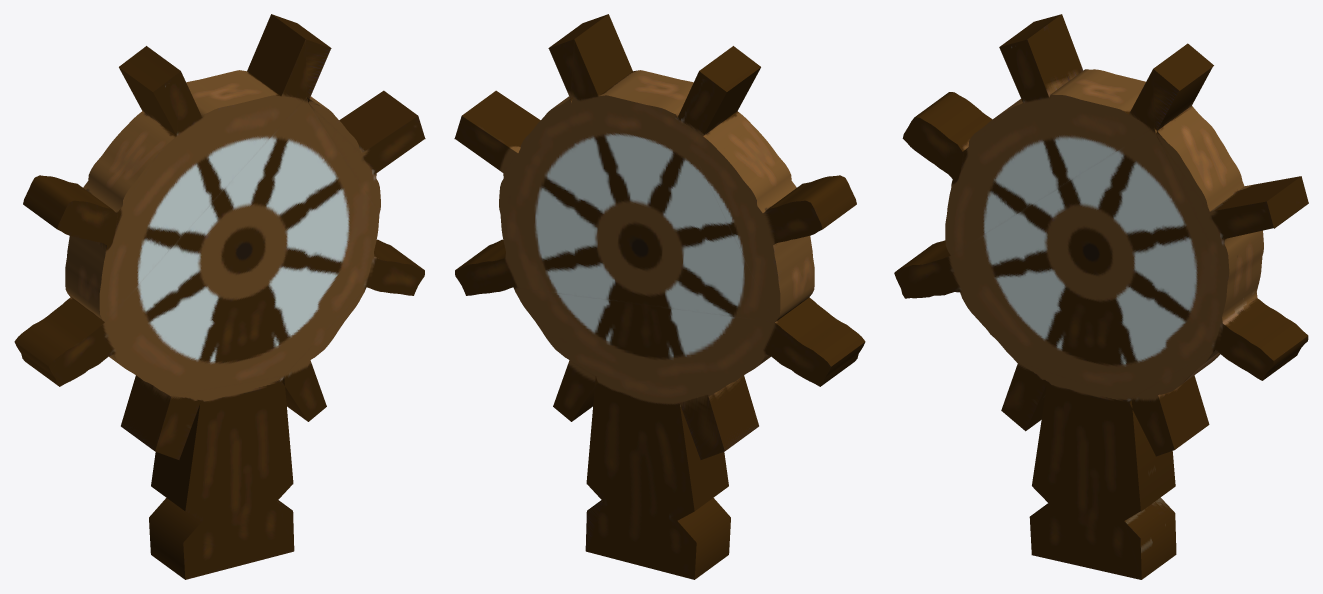
Rendered from shipwheel.fbx.
3 renders of one model, left to right at view 1: azimuth 30°, elevation 25°; view 2: azimuth 150°, elevation 25°; view 3: azimuth 330°, elevation 25°, orthographic.
Visible parts, largest first — view 1: root; view 2: root; view 3: root.
Part boxes in pixels (box(x1,y1,x2,y2)): root: box(14, 14, 425, 579); root: box(454, 14, 865, 579); root: box(894, 14, 1308, 579).
Bounding box in the file's own units: 0.5232 × 0.6788 × 0.0828.
1 material, 1 textured.
